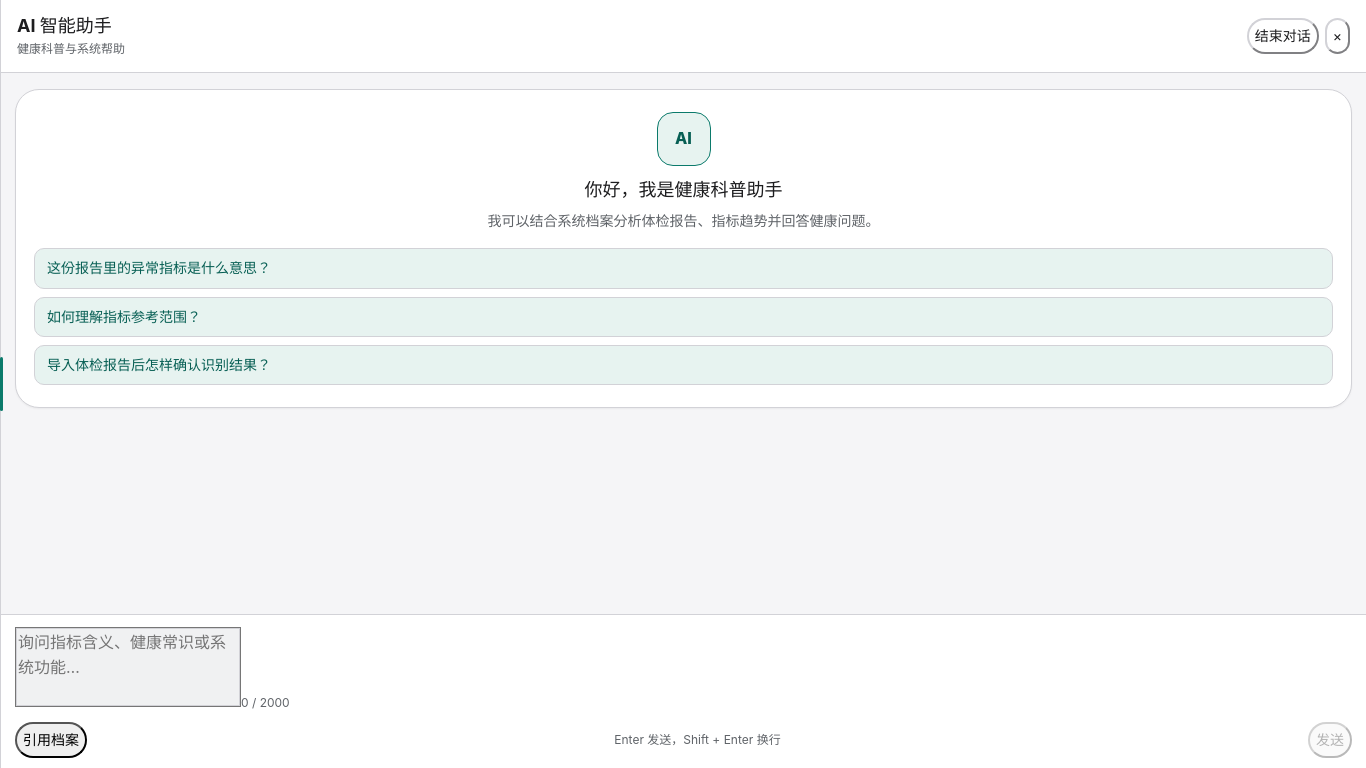
Test: AiAssistant record-aware interaction › renders every streamed delta before the request finishes
Type "逐步回复" into the text box with placeholder "询问指标含义、健康常识或系统功能…" at x=128, y=667, box [15, 627, 241, 707]
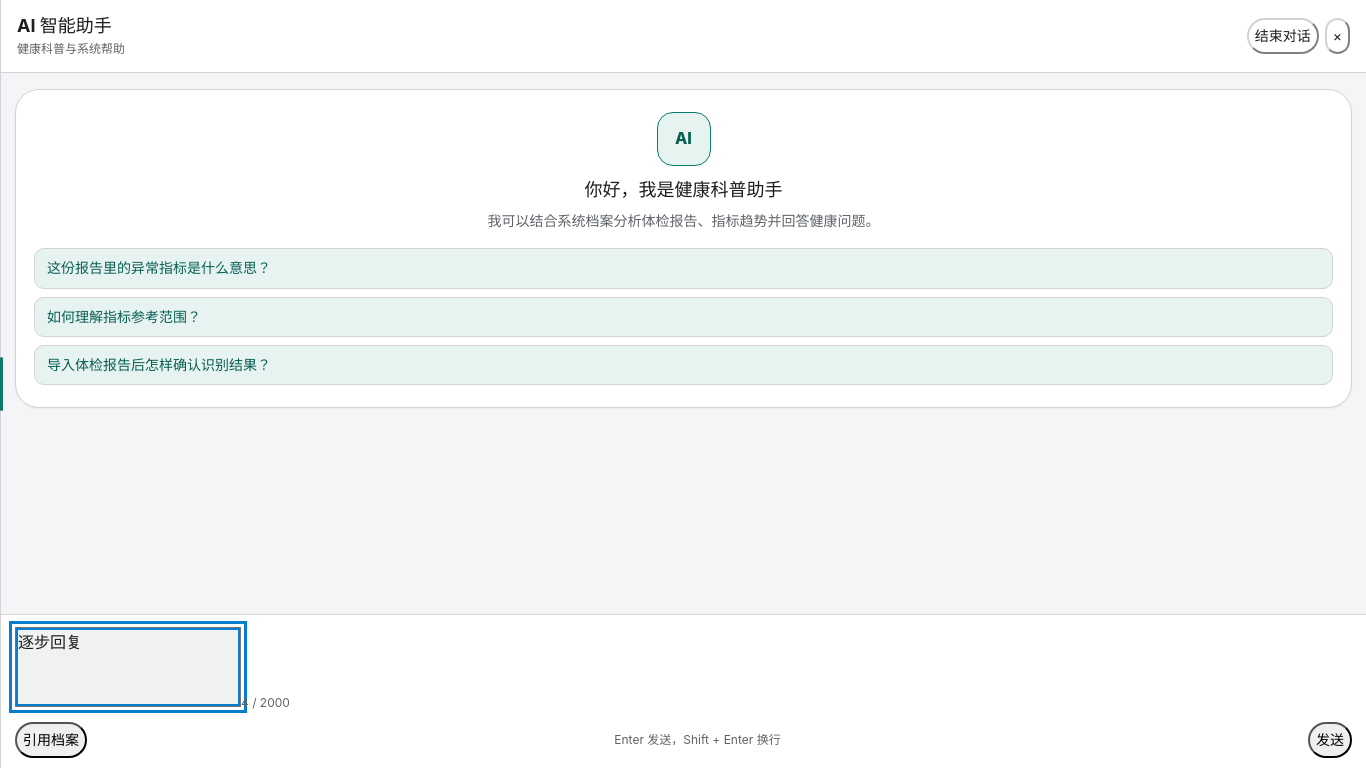
Click the button with test id "send-message" at x=1330, y=740, box [1308, 722, 1352, 758]
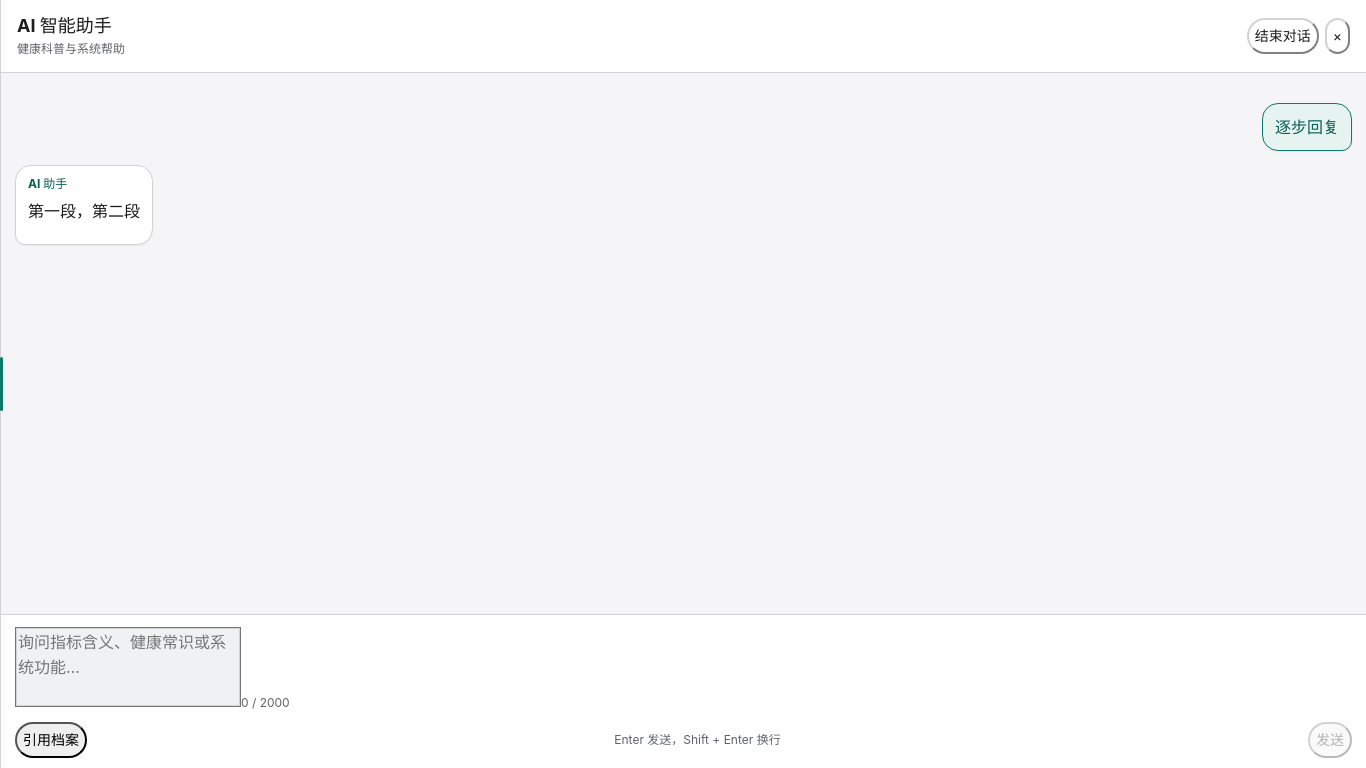
Expected: the text "第一段" is shown, [28, 201, 140, 221]
Expected: the text "第一段，第二段" is shown, [28, 198, 140, 224]
